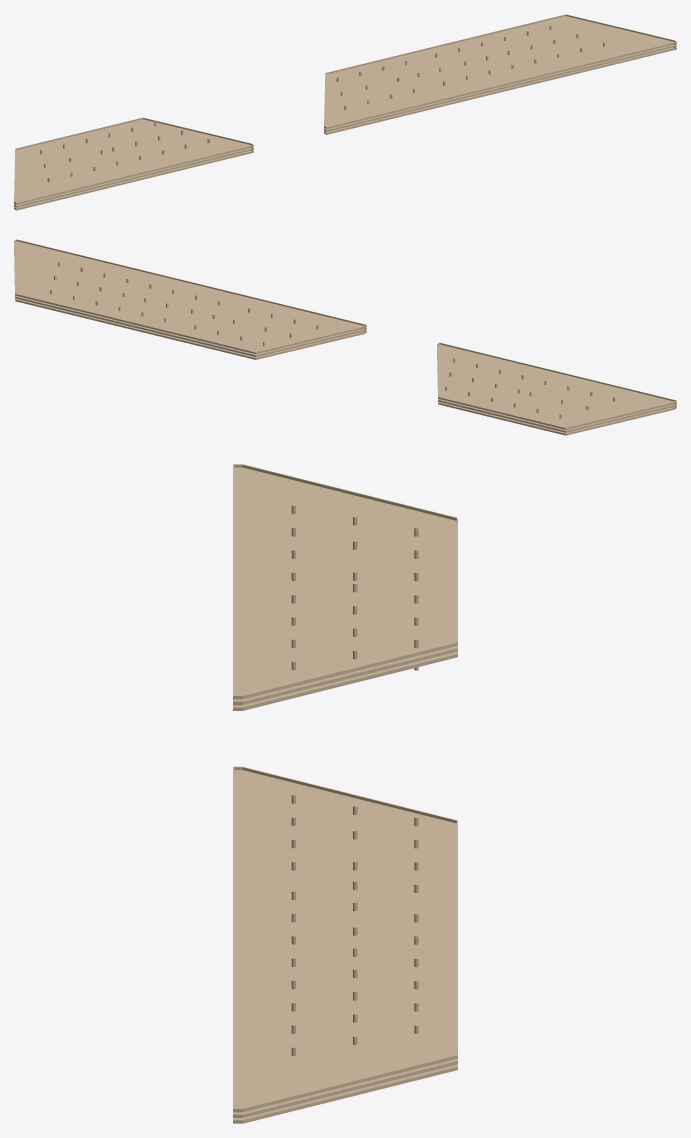
File: oerk-parking.gltf
3 views of the same model, one above another, from view 1: azimuth 30°, elevation 25°; view 2: azimuth 150°, elevation 25°; view 3: azimuth 270°, elevation 25° (orthographic). The views are drawn at different scales.
Visible parts, largest first — view 1: Cube.001, Cube, Cylinder.002, Cylinder.003; view 2: Cube.001, Cube, Cylinder.002, Cylinder.003; view 3: Cube.001, Cube, Cylinder.002, Cylinder.003.
Boxes of the visible parts, box(x1,y1,x2,y2) form: Cube.001: box(324, 14, 676, 134); Cube: box(14, 117, 253, 210); Cylinder.002: box(336, 25, 604, 109); Cylinder.003: box(40, 121, 209, 182); Cube.001: box(14, 239, 366, 359); Cube: box(437, 342, 676, 435); Cylinder.002: box(50, 261, 318, 346); Cylinder.003: box(445, 358, 615, 418); Cube.001: box(233, 766, 457, 1123); Cube: box(233, 464, 457, 710); Cylinder.002: box(291, 794, 418, 1056); Cylinder.003: box(291, 504, 418, 670).
Size of the model in its own units: 1041 by 23 by 153.
